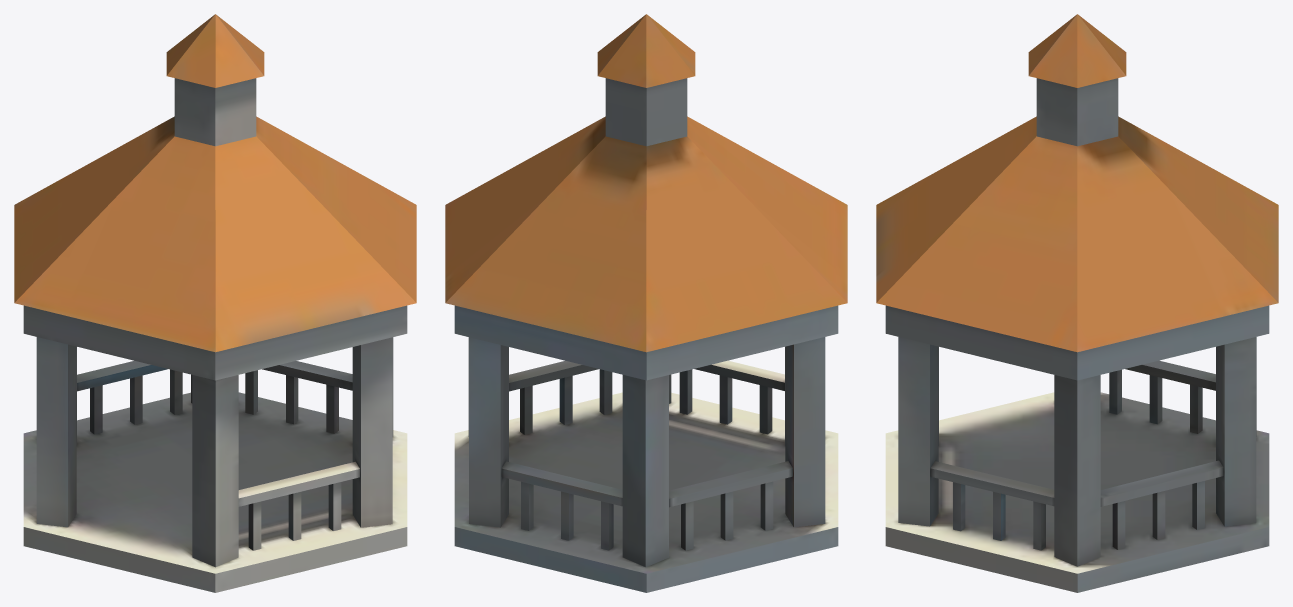
The model's file is gazebo.glb.
3 renders of one model, left to right at view 1: azimuth 30°, elevation 25°; view 2: azimuth 150°, elevation 25°; view 3: azimuth 270°, elevation 25°, orthographic.
Visible parts, largest first — view 1: gazebo; view 2: gazebo; view 3: gazebo.
Part boxes in pixels (x1,y1,x2,y2): gazebo: [14, 14, 416, 592]; gazebo: [445, 14, 847, 592]; gazebo: [876, 14, 1278, 592].
Bounding box in the file's own units: 7 × 8.07 × 6.06.
1 material, 1 textured.
